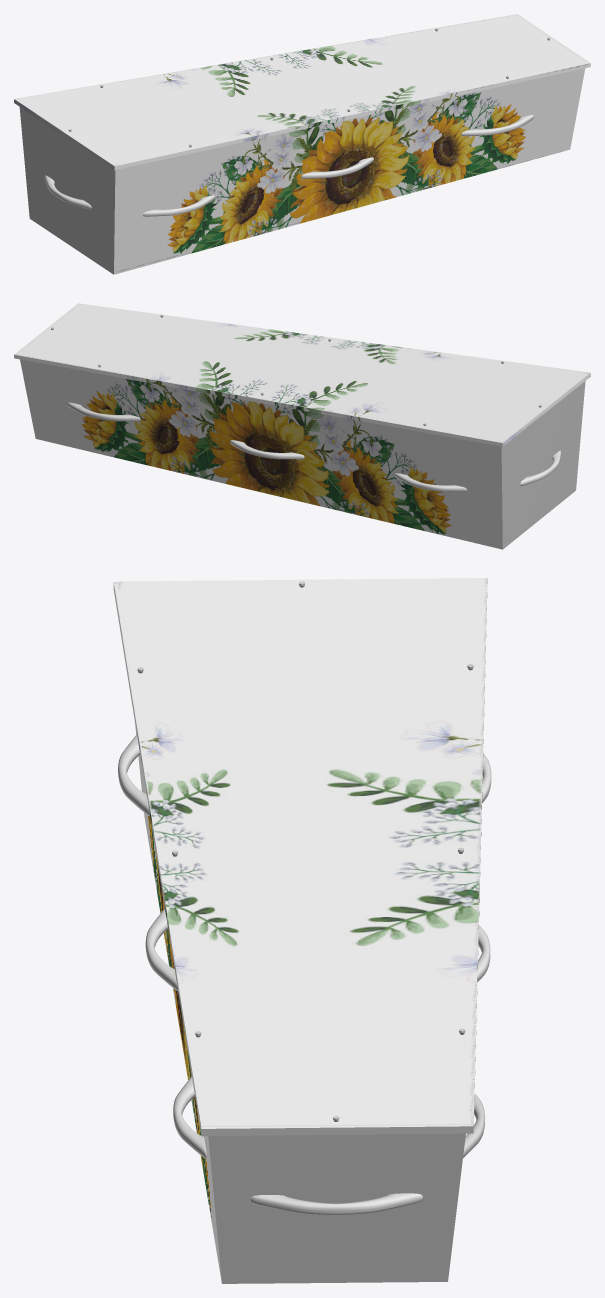
The model's file is sunflower.glb.
3 views of the same model, one above another, from view 1: azimuth 30°, elevation 25°; view 2: azimuth 150°, elevation 25°; view 3: azimuth 270°, elevation 25° (orthographic). The views are drawn at different scales.
Visible parts, largest first — view 1: Bot_handles_Bot_Cube.004_Cube.001; view 2: Bot_handles_Bot_Cube.004_Cube.001; view 3: Bot_handles_Bot_Cube.004_Cube.001.
Part boxes in pixels (bbox=[...]): Bot_handles_Bot_Cube.004_Cube.001: bbox=[14, 14, 590, 274]; Bot_handles_Bot_Cube.004_Cube.001: bbox=[14, 303, 590, 549]; Bot_handles_Bot_Cube.004_Cube.001: bbox=[113, 578, 491, 1283].
Bounding box in the file's own units: 3.05 × 0.7044 × 0.9961.
5 materials, 3 textured.
